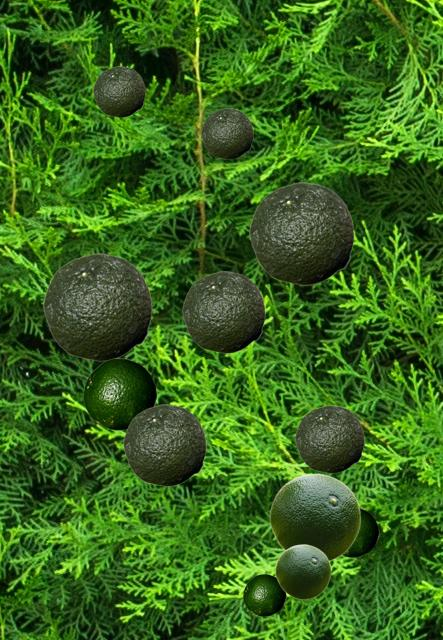calamansi: (43, 253, 151, 360), (249, 182, 353, 284), (269, 473, 360, 561), (182, 271, 264, 352), (123, 404, 205, 485), (83, 358, 156, 429), (295, 405, 363, 472), (275, 544, 330, 598), (201, 108, 252, 158), (93, 66, 144, 116), (243, 574, 285, 615), (343, 508, 378, 556)
